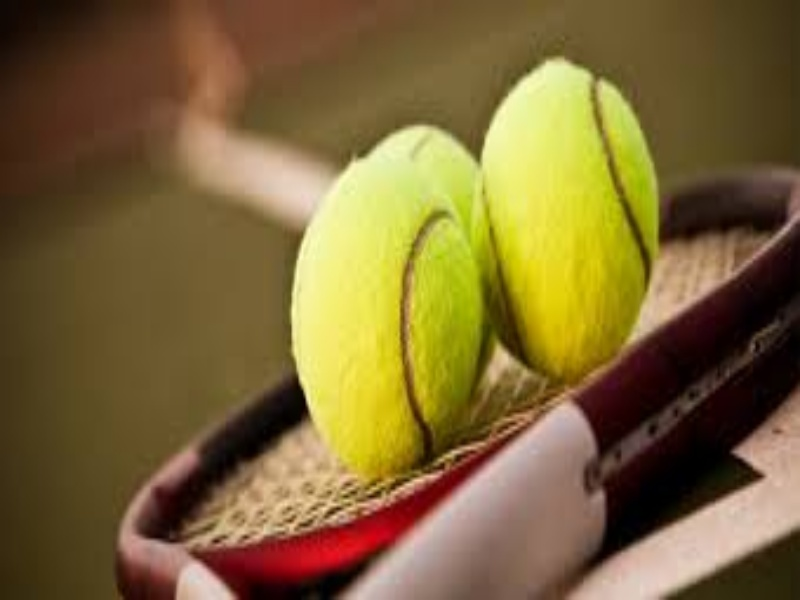tennis ball: (280, 152, 499, 481), (477, 57, 674, 384), (368, 121, 503, 389)
